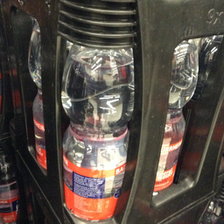water: (60, 46, 132, 223)
